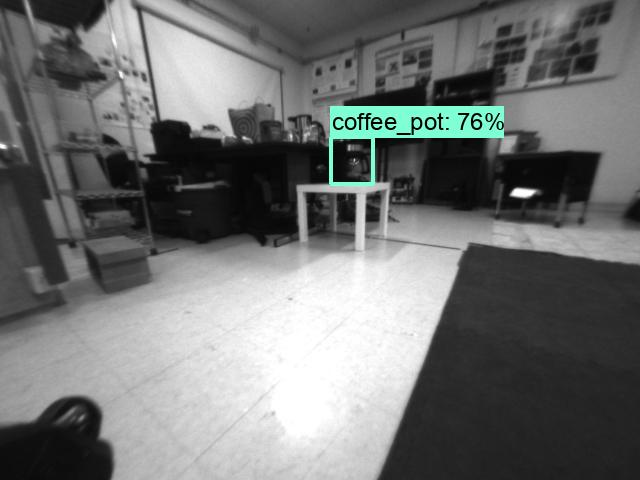coffee_pot: (331, 137, 372, 185)
